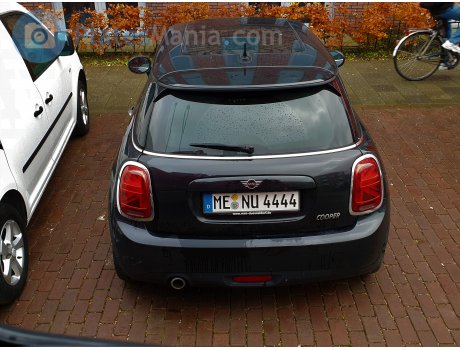License Plates: (213, 192, 299, 210)
